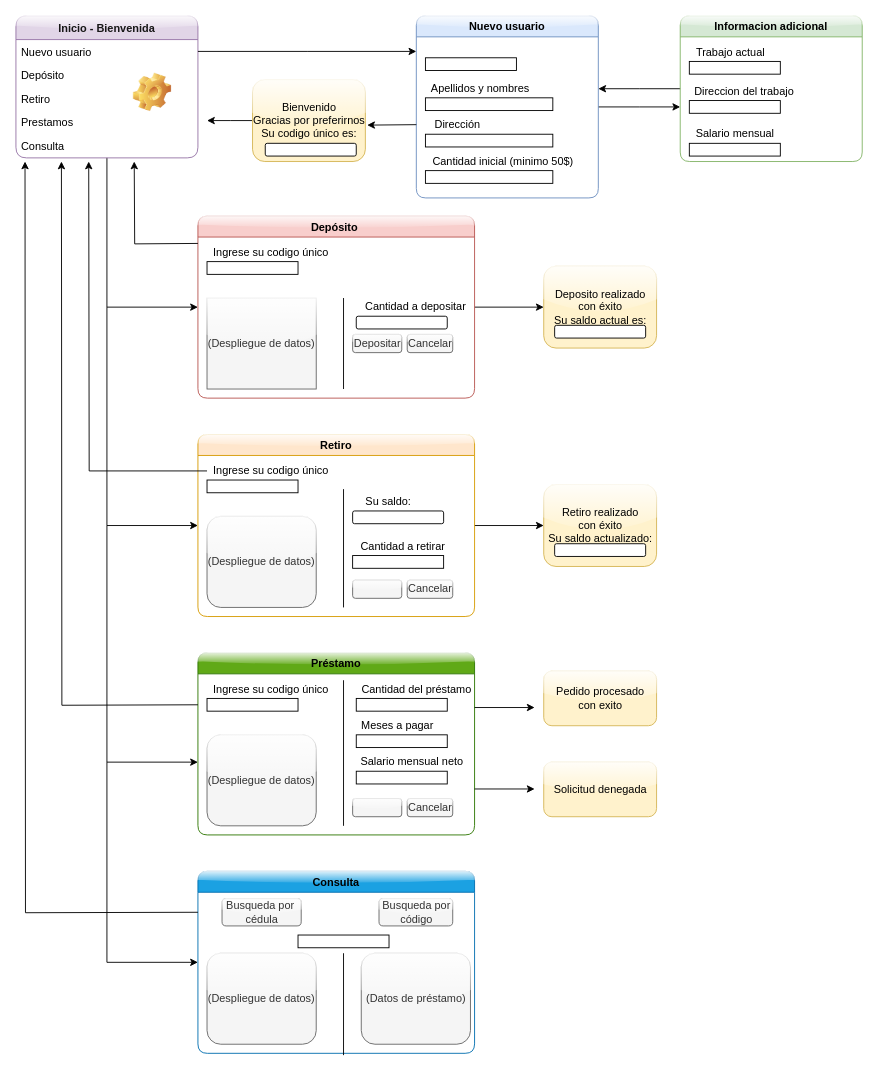
This 878x1072 diagram has some shape labels left out. The shapes that lost their labels are listed below. From the top down, each one's centre as x and y in pixels, then its label:
(x=448, y=48): Cédula
(x=152, y=98): (Logotipo)
(x=377, y=588): Retirar
(x=377, y=807): Confirmar
